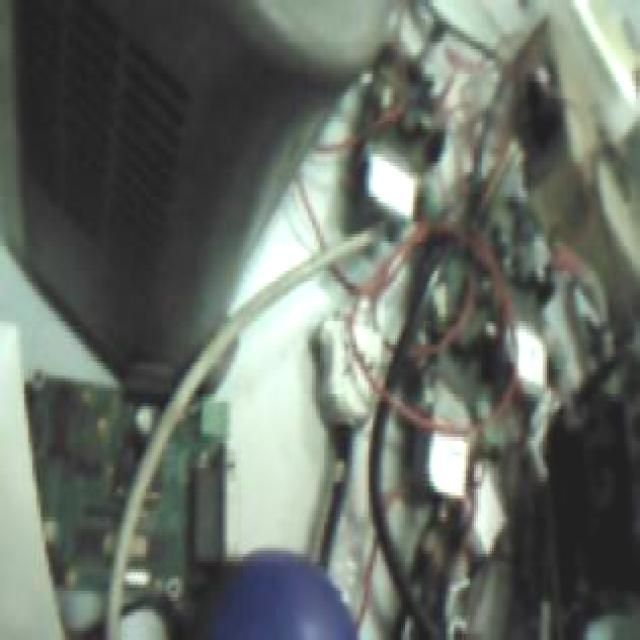BallPurple: (188, 548, 358, 640)
